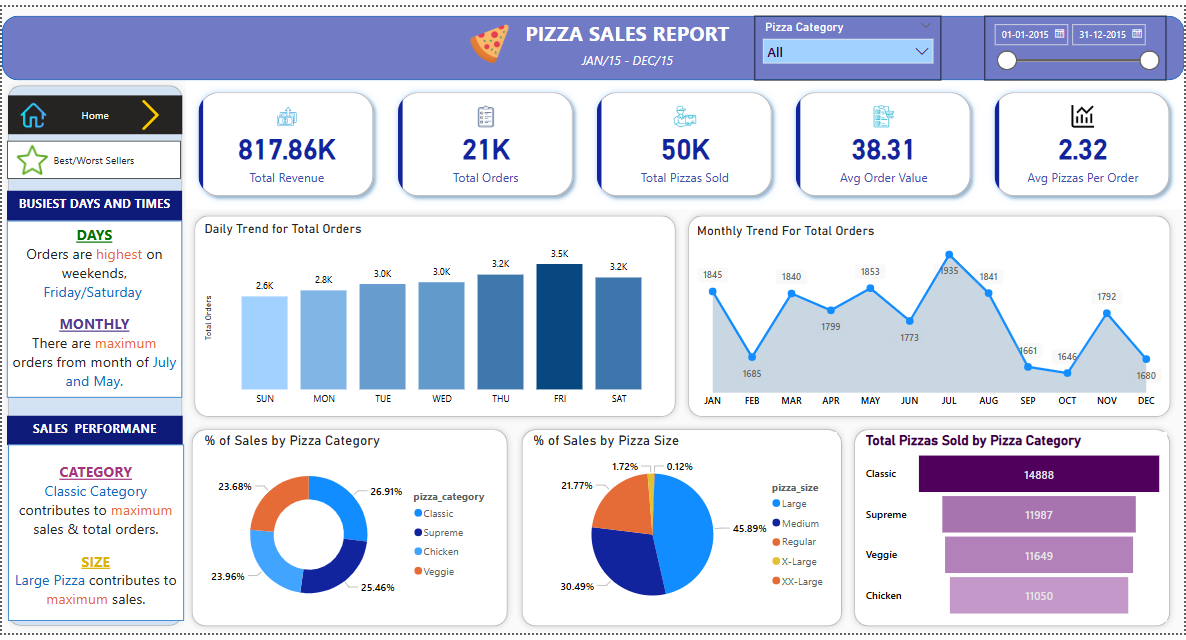

Layout of this report page (visuals, bound fields, positions):
{"tool":"powerbi","page":{"name":"Home","canvas":[1550,820],"ordinal":0},"visuals":[{"type":"cardVisual","fields":{"Data":["pizza_sales.Total_Revenue","pizza_sales.Total_orders","pizza_sales.total pizzas sold","pizza_sales.avg order value","pizza_sales.avg pizzas per order"]},"box":[241.4,95.7,1308.6,170],"z":0},{"type":"shape","box":[0,11.3,1550.7,84.5],"z":1000},{"type":"textbox","box":[671.4,11.4,295.7,58.6],"z":2000},{"type":"textbox","box":[743.7,53.5,152.1,36.6],"z":3000},{"type":"image","box":[608.6,11.4,62.9,72.9],"z":4000},{"type":"shape","box":[244.3,265.7,647.1,280],"z":5000},{"type":"columnChart","title":"Daily Trend for Total Orders","fields":{"Category":["pizza_sales.Order Day"],"Y":["pizza_sales.Total_orders"]},"box":[260,280,615.7,251.4],"z":6000},{"type":"shape","box":[891.4,265.7,648.6,280],"z":7000},{"type":"areaChart","title":"Monthly Trend For Total Orders","fields":{"Category":["pizza_sales.Month"],"Y":["pizza_sales.Total Orders"]},"box":[907.1,284.3,620,251.4],"z":8000},{"type":"shape","box":[241.4,545.7,430,274.3],"z":9000},{"type":"shape","box":[0,95.7,244.3,724.3],"z":10000},{"type":"shape","box":[674.3,545.7,435.7,274.3],"z":11000},{"type":"shape","box":[1110,545.7,430,274.3],"z":12000},{"type":"donutChart","title":"% of Sales by Pizza Category","fields":{"Category":["pizza_sales.pizza_category"],"Y":["pizza_sales.Total Revenue"]},"box":[260,557.1,392.9,248.6],"z":13000},{"type":"pieChart","title":"% of Sales by Pizza Size","fields":{"Y":["pizza_sales.Total Revenue"],"Category":["pizza_sales.pizza_size"]},"box":[691.4,557.1,402.9,248.6],"z":14000},{"type":"funnel","title":"Total Pizzas Sold by Pizza Category","fields":{"Category":["pizza_sales.pizza_category"],"Y":["pizza_sales.Total Pizzas Sold"]},"box":[1127.1,557.1,400,248.6],"z":15000},{"type":"textbox","box":[7,240.8,229.6,39.4],"z":16000},{"type":"textbox","box":[7,280.3,229.6,232.4],"z":17000},{"type":"textbox","box":[7.1,535.7,230,38.6],"z":18000},{"type":"textbox","box":[8.6,574.3,230,231.4],"z":19000},{"type":"slicer","fields":{"Values":["pizza_sales.pizza_category"]},"box":[987.3,11.3,245.1,84.5],"z":20000},{"type":"slicer","fields":{"Values":["pizza_sales.order_date"]},"box":[1288.7,11.3,238,84.5],"z":20001},{"type":"pageNavigator","box":[8.5,116.9,228.2,50.7],"z":20002},{"type":"pageNavigator","box":[7,176.1,228.2,50.7],"z":20003},{"type":"image","box":[166.2,116.9,59.2,50.7],"z":20004},{"type":"image","box":[19.7,116.9,43.7,50.7],"z":20005},{"type":"image","box":[8.5,176.1,63.4,50.7],"z":20006}]}

Visuals, with their boxes in screenshot pixels (x1, y1, x2, y2), scaled from the page's 1550x820 canvas onto the 1186x640 screenshot:
cardVisual - pizza_sales.Total_Revenue x pizza_sales.Total_orders: [left=185, top=75, right=1185, bottom=207]
shape: [left=0, top=9, right=1185, bottom=75]
textbox: [left=514, top=9, right=740, bottom=55]
textbox: [left=569, top=42, right=685, bottom=70]
image: [left=466, top=9, right=514, bottom=66]
shape: [left=187, top=207, right=682, bottom=426]
"Daily Trend for Total Orders" columnChart: [left=199, top=219, right=670, bottom=415]
shape: [left=682, top=207, right=1178, bottom=426]
"Monthly Trend For Total Orders" areaChart: [left=694, top=222, right=1168, bottom=418]
shape: [left=185, top=426, right=514, bottom=639]
shape: [left=0, top=75, right=187, bottom=639]
shape: [left=516, top=426, right=849, bottom=639]
shape: [left=849, top=426, right=1178, bottom=639]
"% of Sales by Pizza Category" donutChart: [left=199, top=435, right=500, bottom=629]
"% of Sales by Pizza Size" pieChart: [left=529, top=435, right=837, bottom=629]
"Total Pizzas Sold by Pizza Category" funnel: [left=862, top=435, right=1168, bottom=629]
textbox: [left=5, top=188, right=181, bottom=219]
textbox: [left=5, top=219, right=181, bottom=400]
textbox: [left=5, top=418, right=181, bottom=448]
textbox: [left=7, top=448, right=183, bottom=629]
slicer - pizza_sales.pizza_category: [left=755, top=9, right=943, bottom=75]
slicer - pizza_sales.order_date: [left=986, top=9, right=1168, bottom=75]
pageNavigator: [left=7, top=91, right=181, bottom=131]
pageNavigator: [left=5, top=137, right=180, bottom=177]
image: [left=127, top=91, right=172, bottom=131]
image: [left=15, top=91, right=49, bottom=131]
image: [left=7, top=137, right=55, bottom=177]
